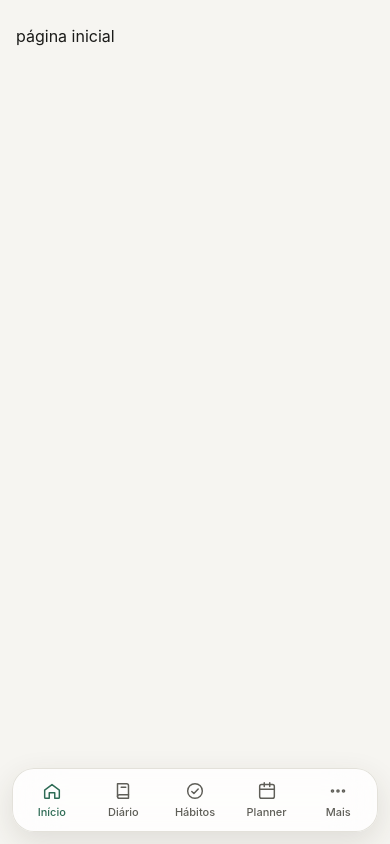
Scenario: AppLayout — navegação no celular › "Mais" abre a folha com o resto e o Sair; admin vê Acessos
Click the button "Mais" at (338, 800), box x1=302 y1=768 x2=374 y2=832
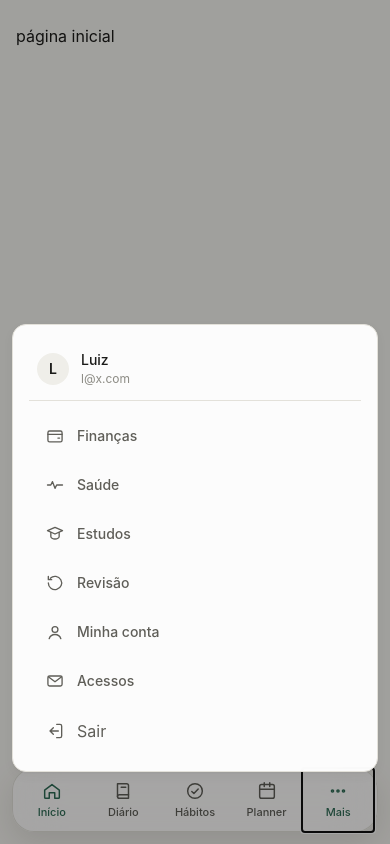
Expected: the links read "Finanças", "Saúde", "Estudos", "Revisão", "Minha conta", "Acessos", in this order, x1=45 y1=426 x2=137 y2=446; x1=45 y1=474 x2=119 y2=494; x1=45 y1=524 x2=131 y2=544; x1=45 y1=572 x2=129 y2=592; x1=45 y1=622 x2=160 y2=642; x1=45 y1=670 x2=134 y2=690
Expected: the button "Sair" is shown, x1=29 y1=707 x2=361 y2=755
